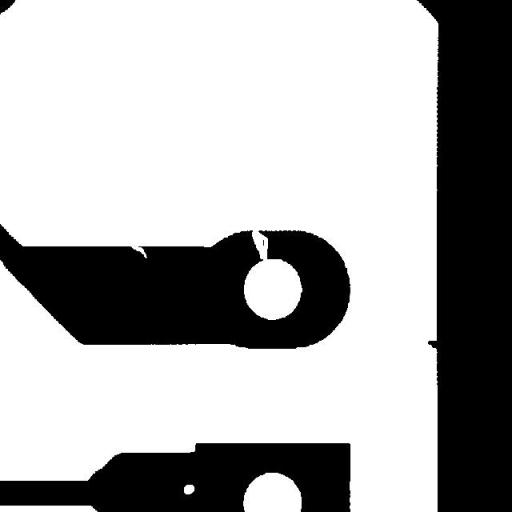mousebite: (120, 234, 154, 266)
open: (244, 222, 275, 270)
pin-hole: (176, 476, 202, 502)
spur: (420, 333, 447, 357)
